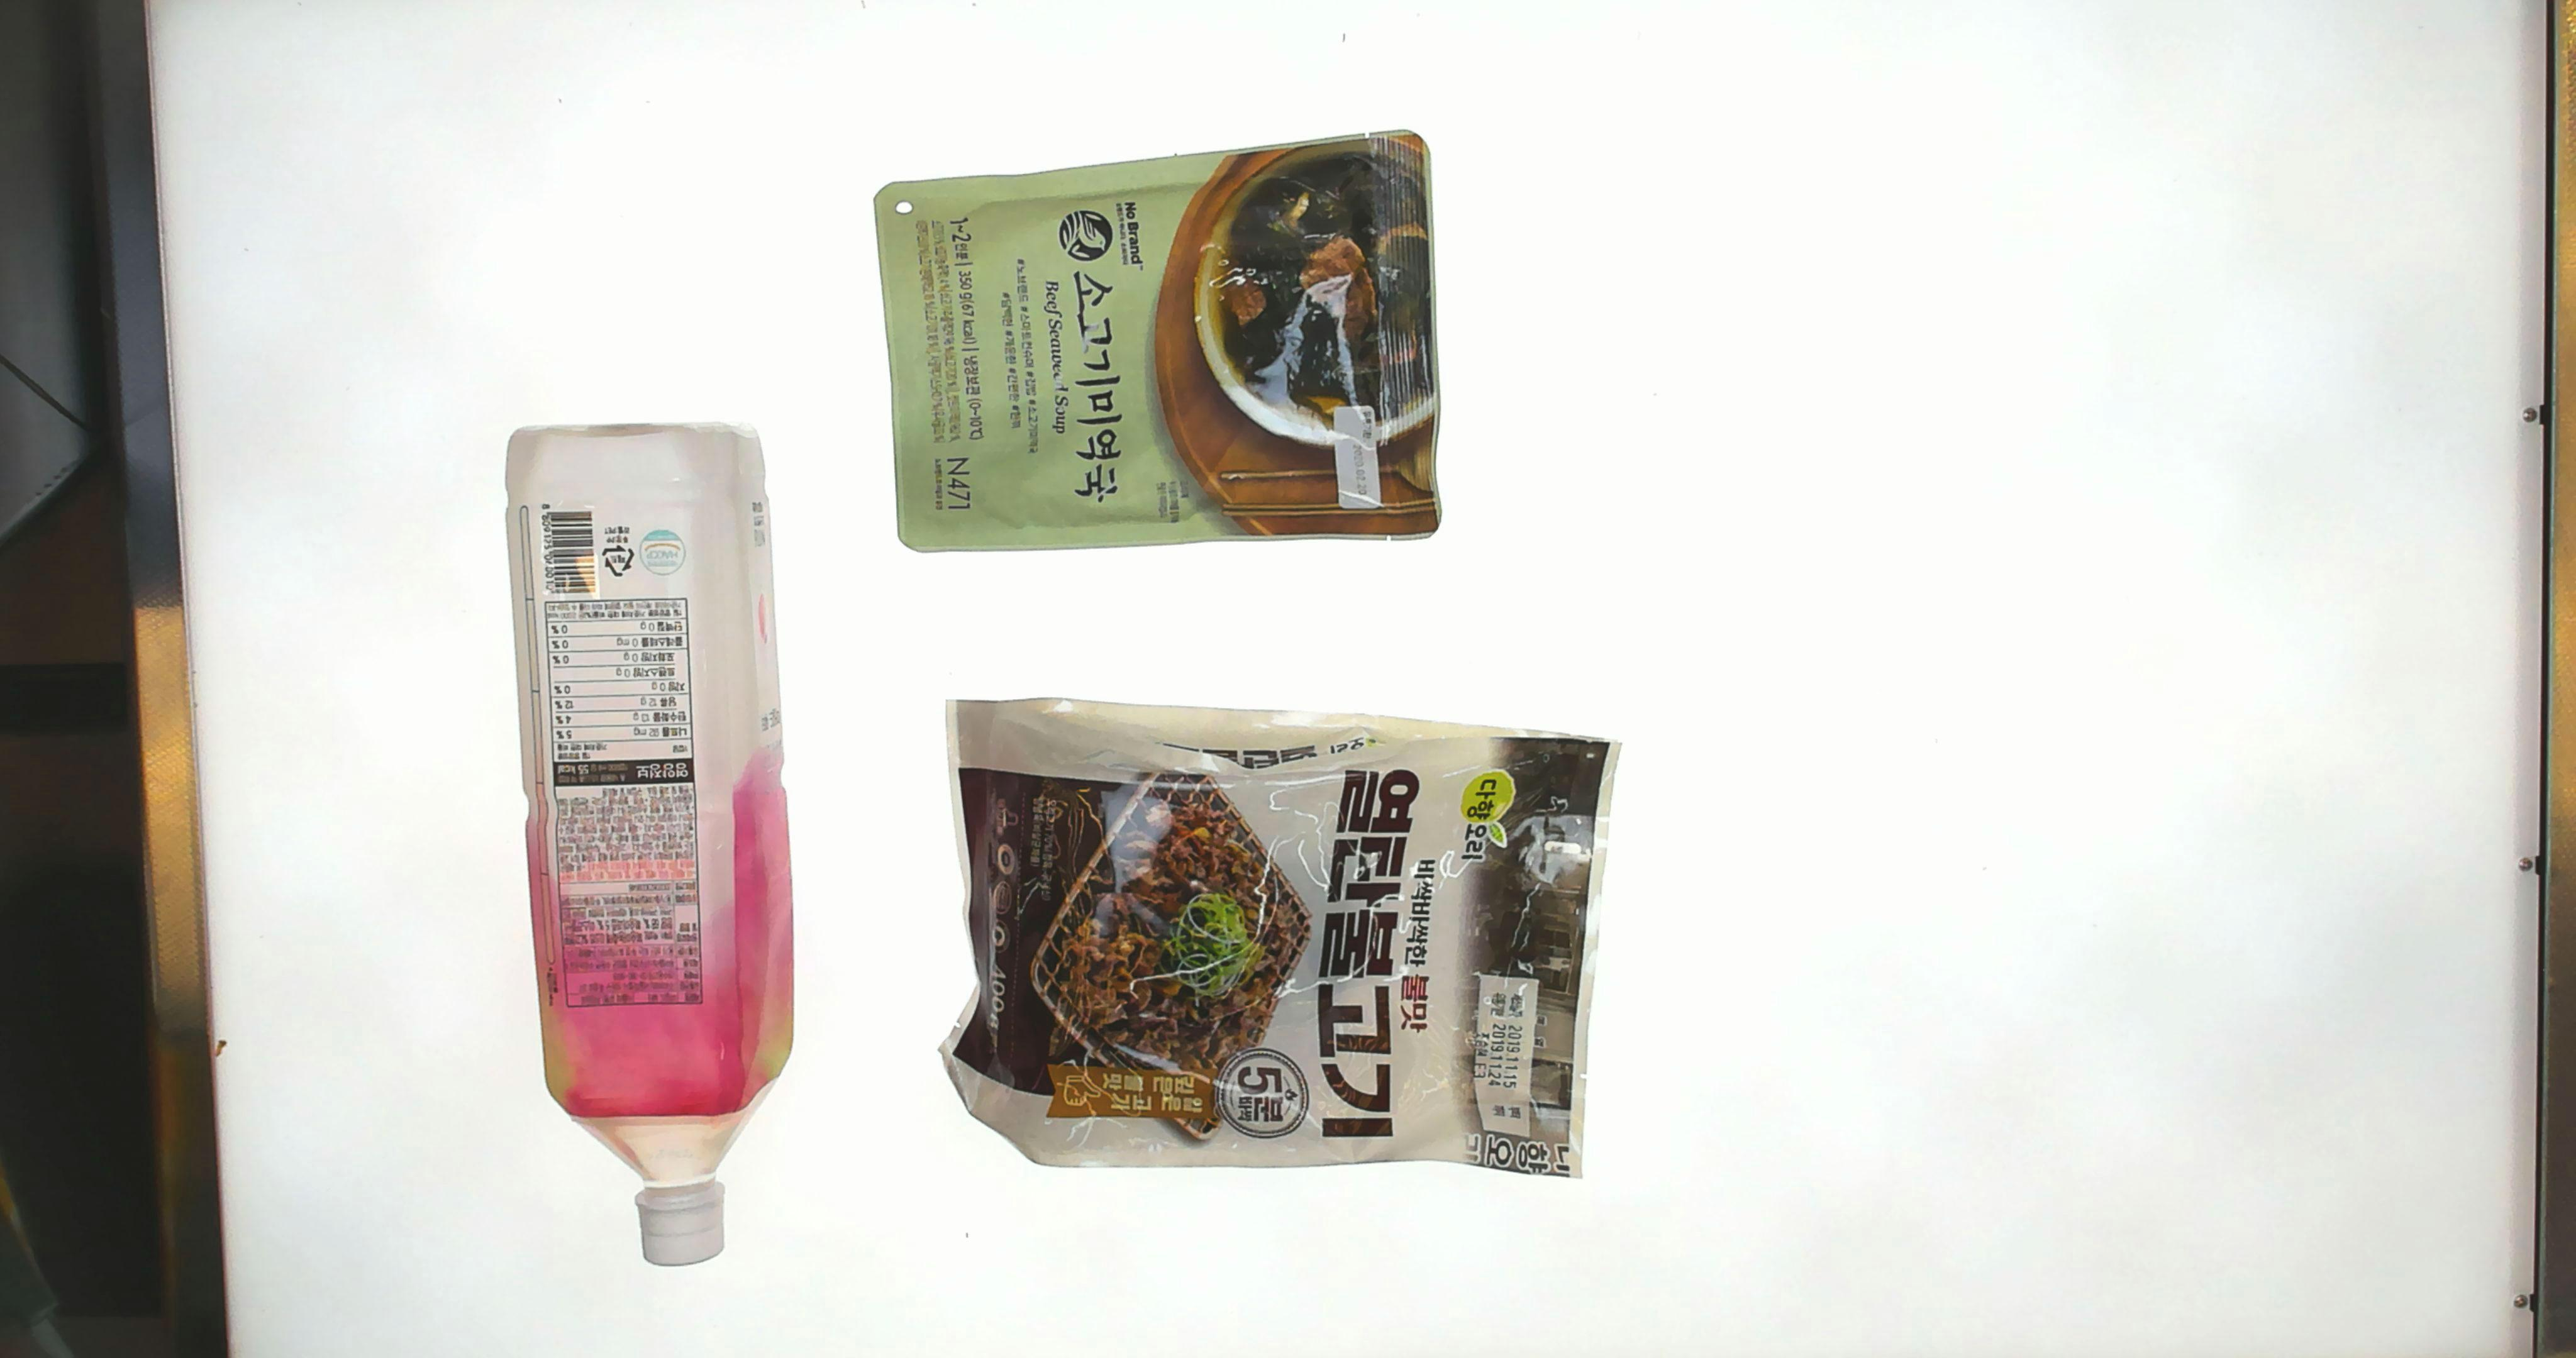product: (930, 695, 1627, 1191), (491, 416, 802, 1266), (867, 129, 1452, 557)
